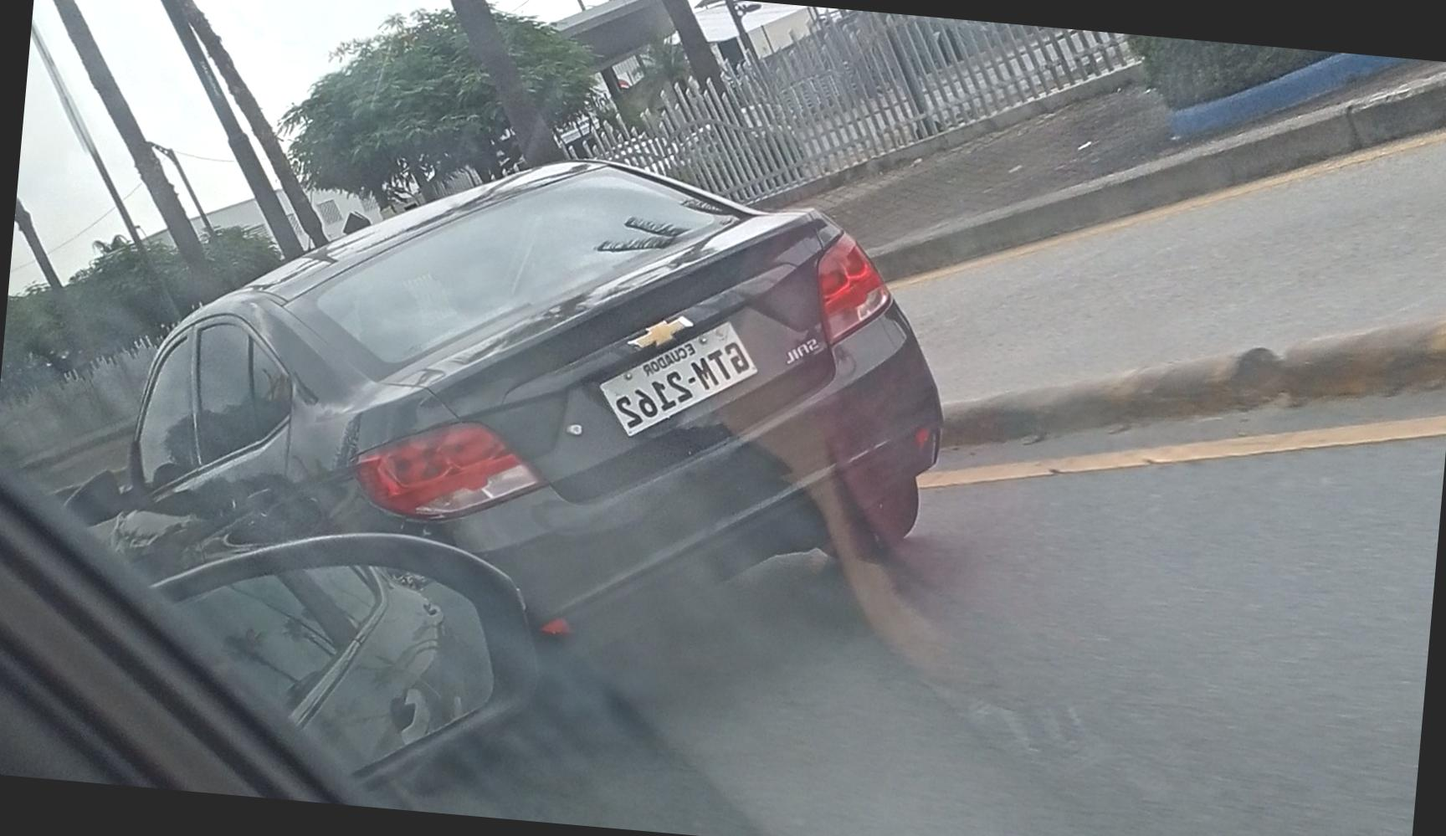license_plate: (596, 311, 765, 446)
